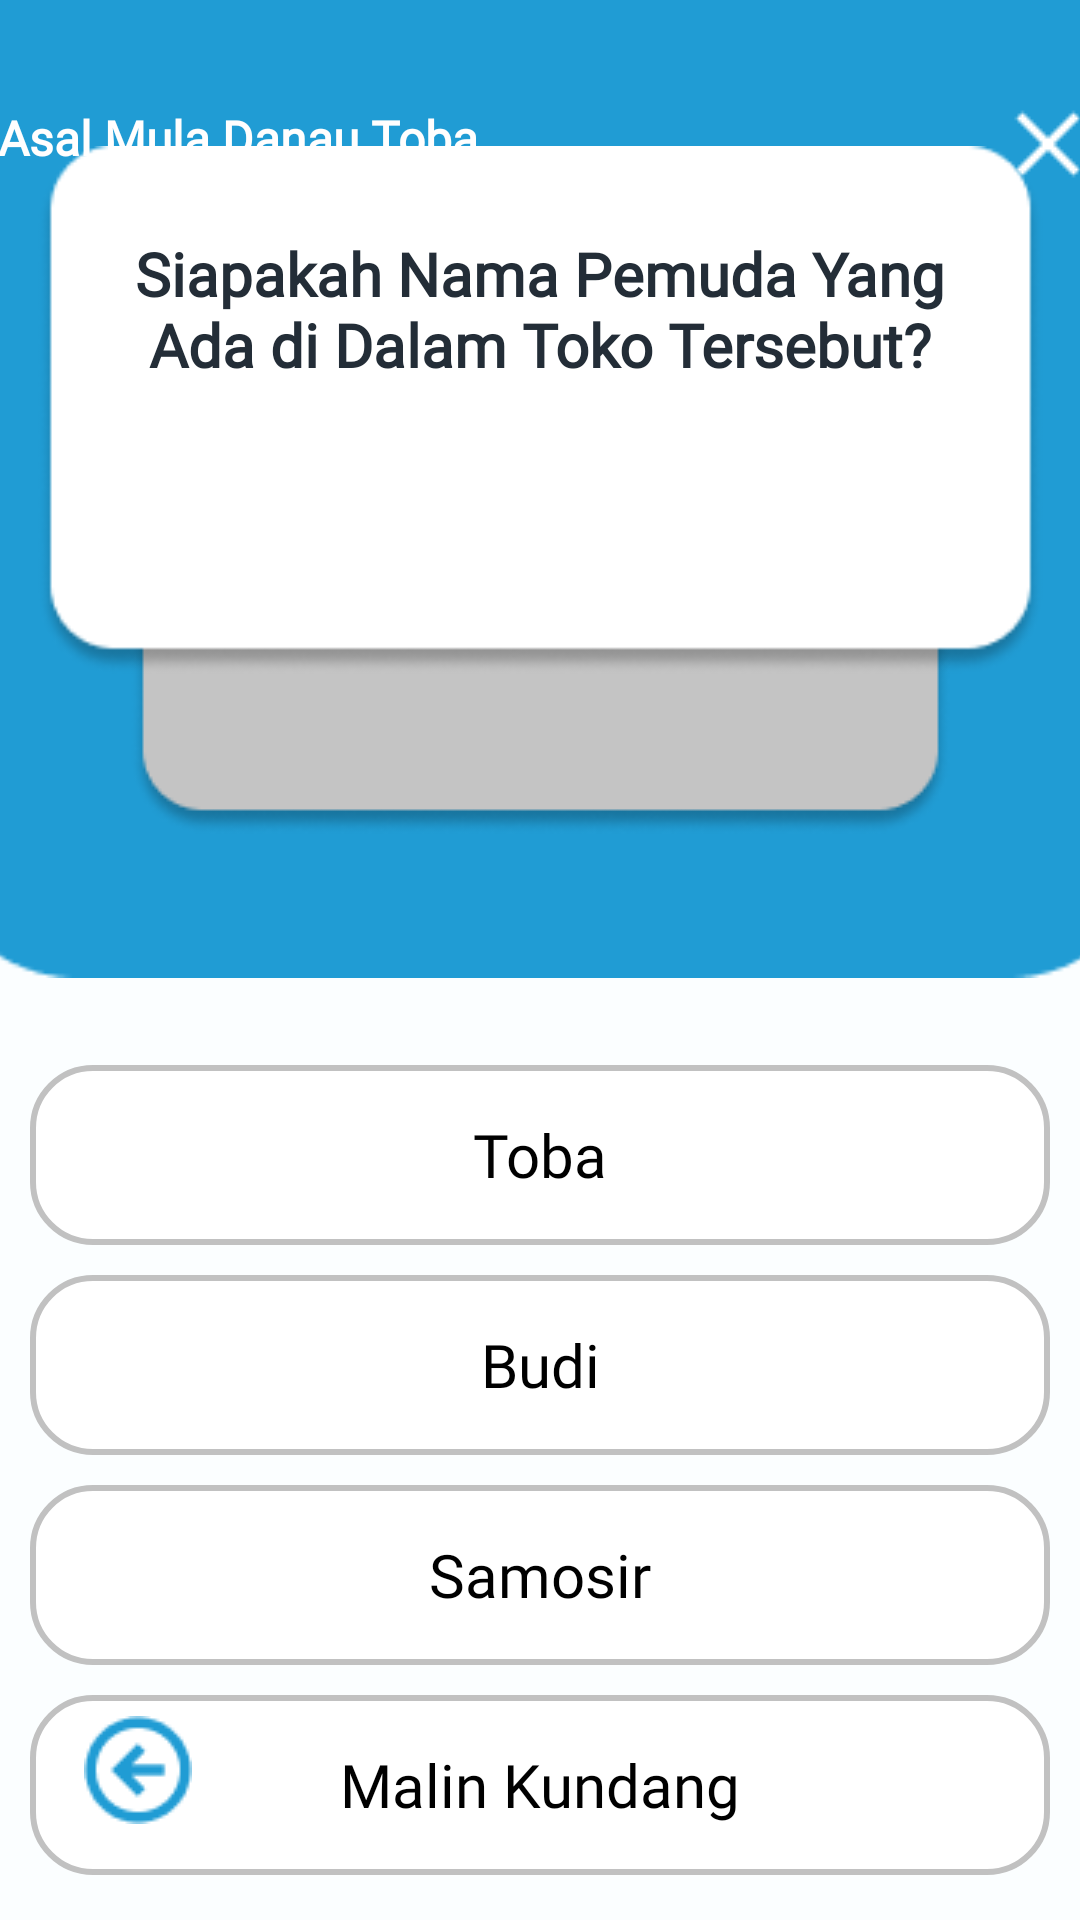

Where to tap for icons on this 1080w x 1920h app screen, as [x,y]:
arrow back: [138,1770]
